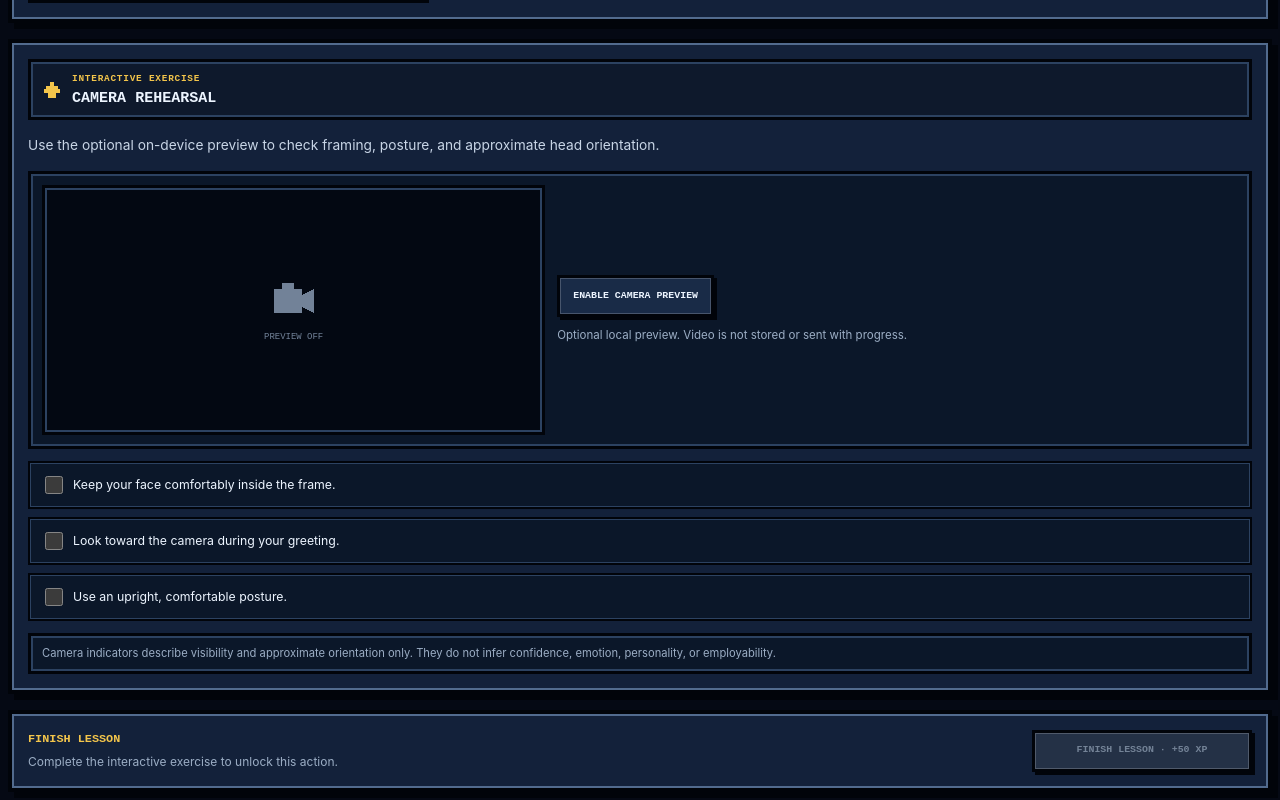
Scenario: AcademyLesson › awards the phase badge when the final preparation lesson is completed
(page scrolled)
Click the checkbox labelled "Keep your face comfortably inside the frame.": {"x": 54, "y": 485} [45,476,63,494]
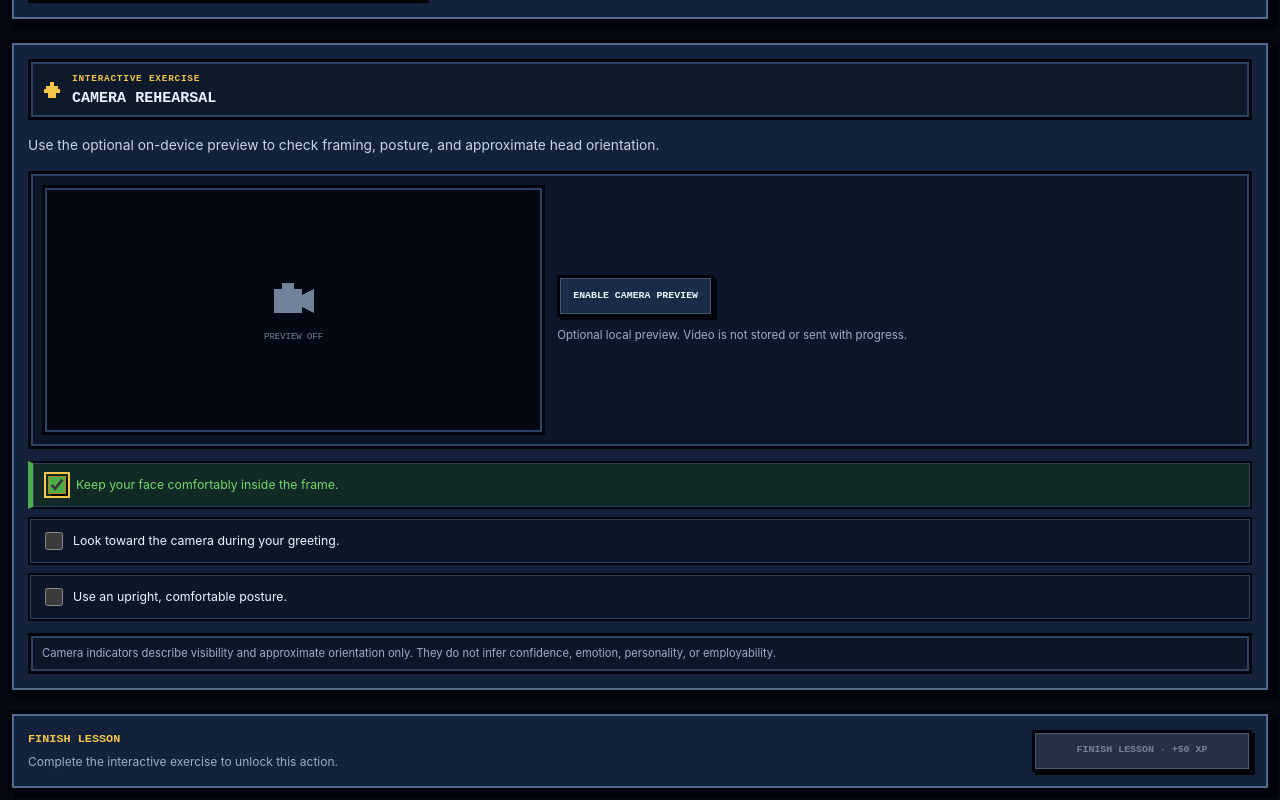
Click the checkbox labelled "Look toward the camera during your greeting.": {"x": 54, "y": 541} [45,532,63,550]
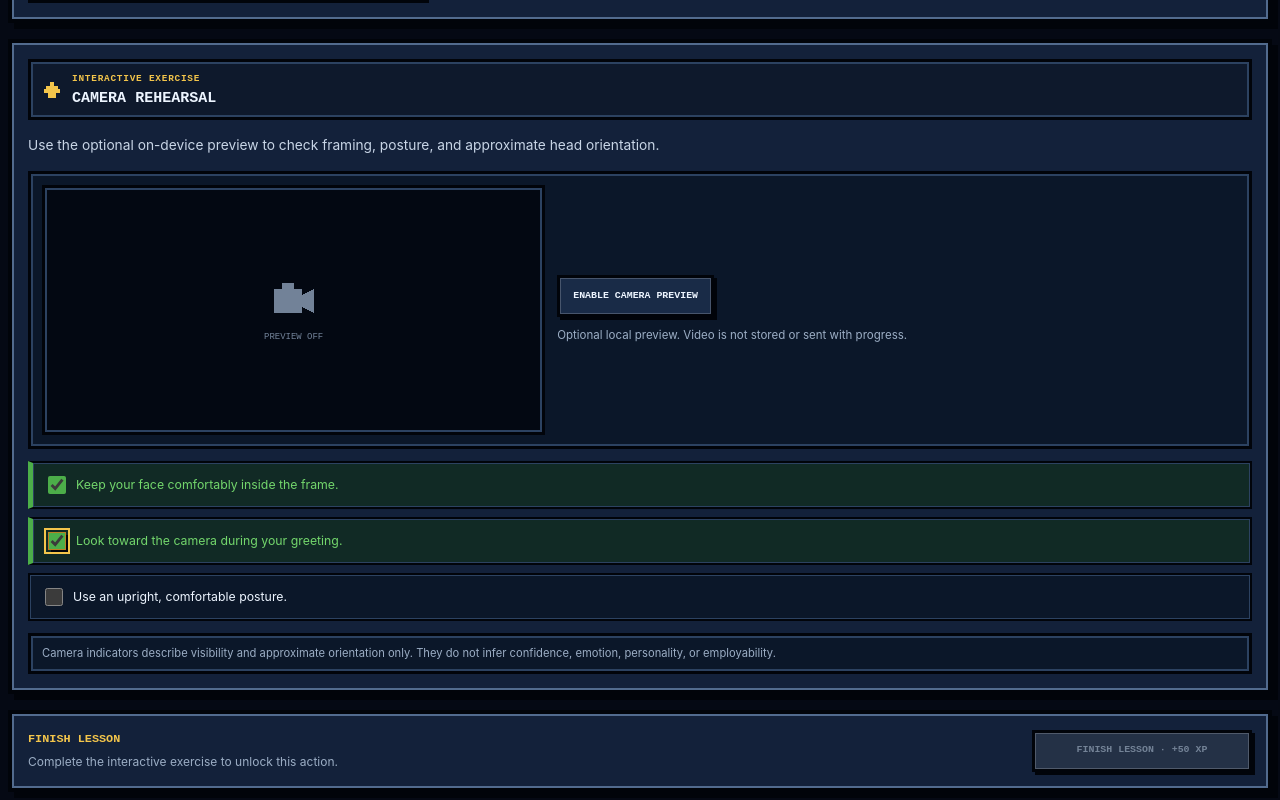
Click the checkbox labelled "Use an upright, comfortable posture.": {"x": 54, "y": 597} [45,588,63,606]
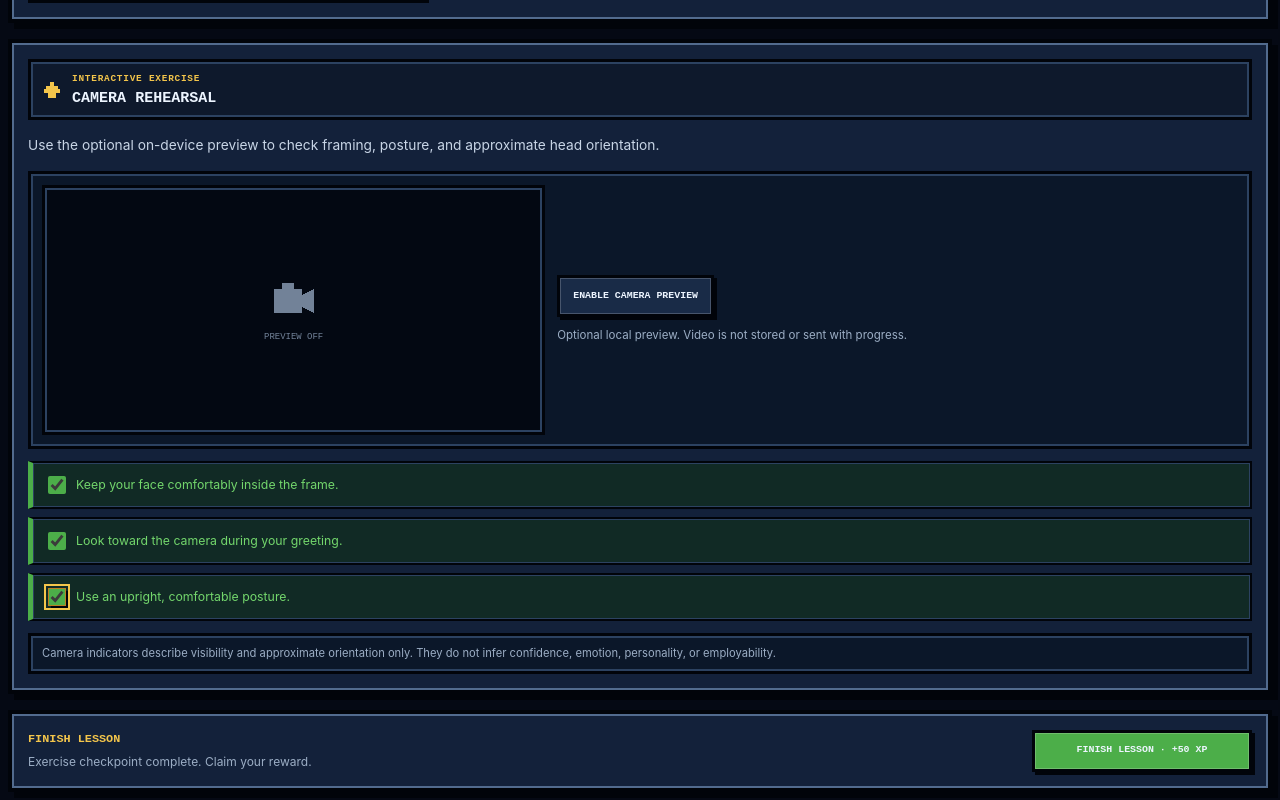
Click the button "Finish Lesson · +50 XP": {"x": 1142, "y": 751} [1032,730,1252,772]
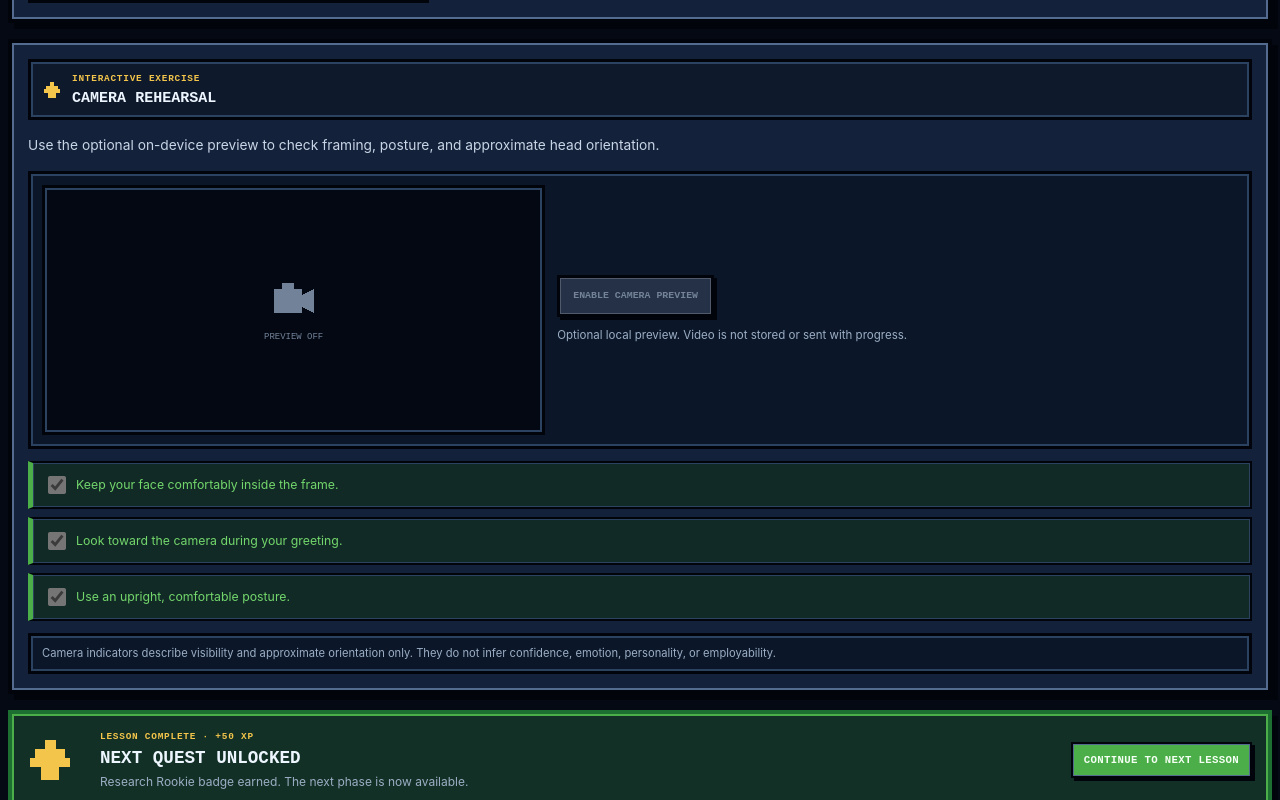
Expected: the text "Research Rookie badge earned" is shown, [100,774,468,789]
